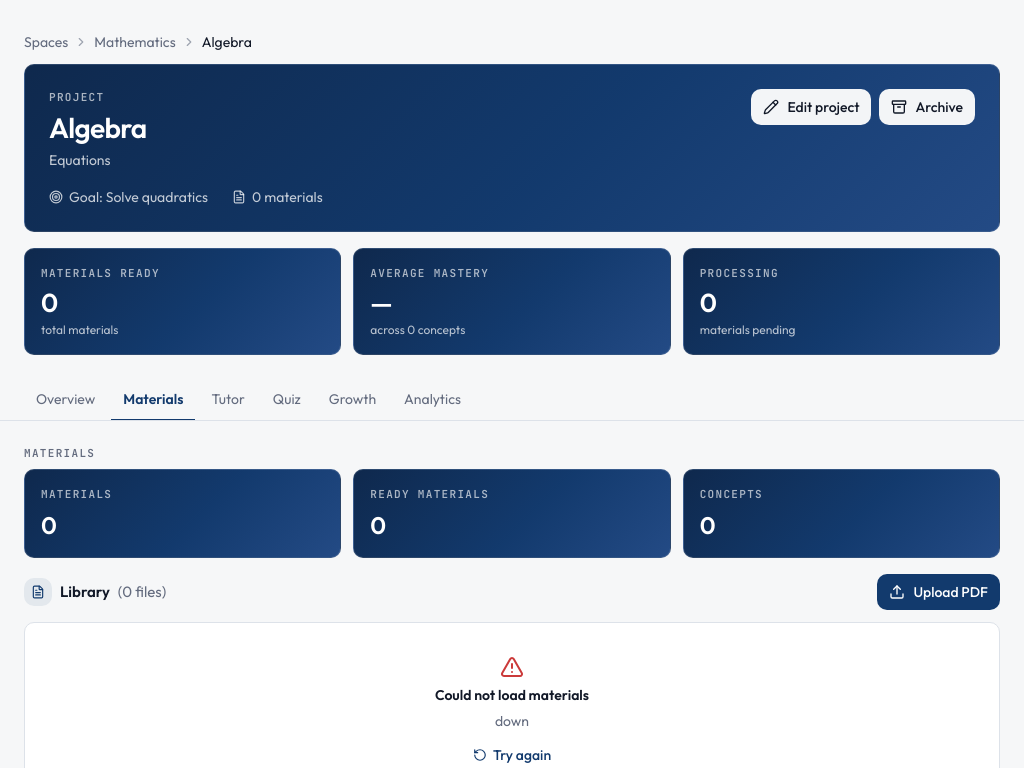
Test: project tab navigation › shows section error states with retry inside tabs
Expected: the text "Could not load materials" is shown, [435,685,589,705]
Click the button "Try again": (512, 755) [473,745,551,765]
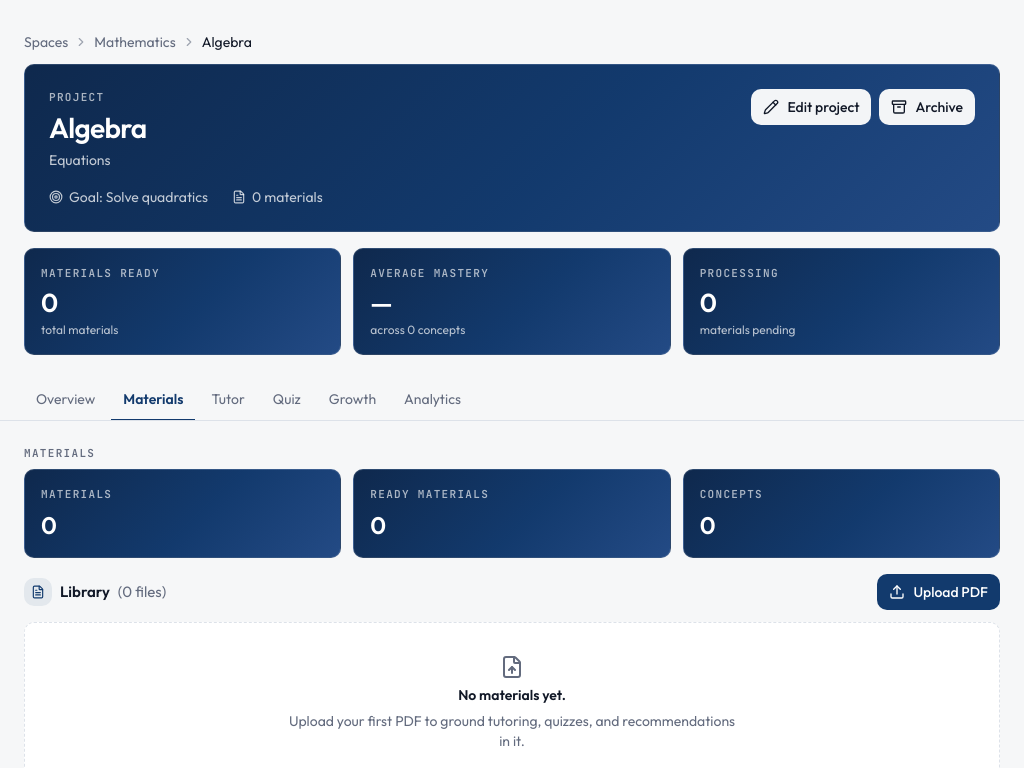
Result: the text "No materials yet." is shown at [458,685,566,705]
